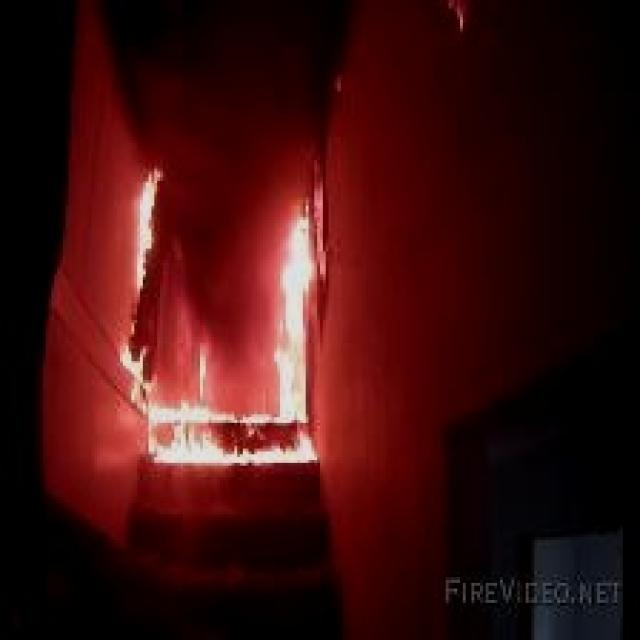fire: (127, 156, 342, 461)
